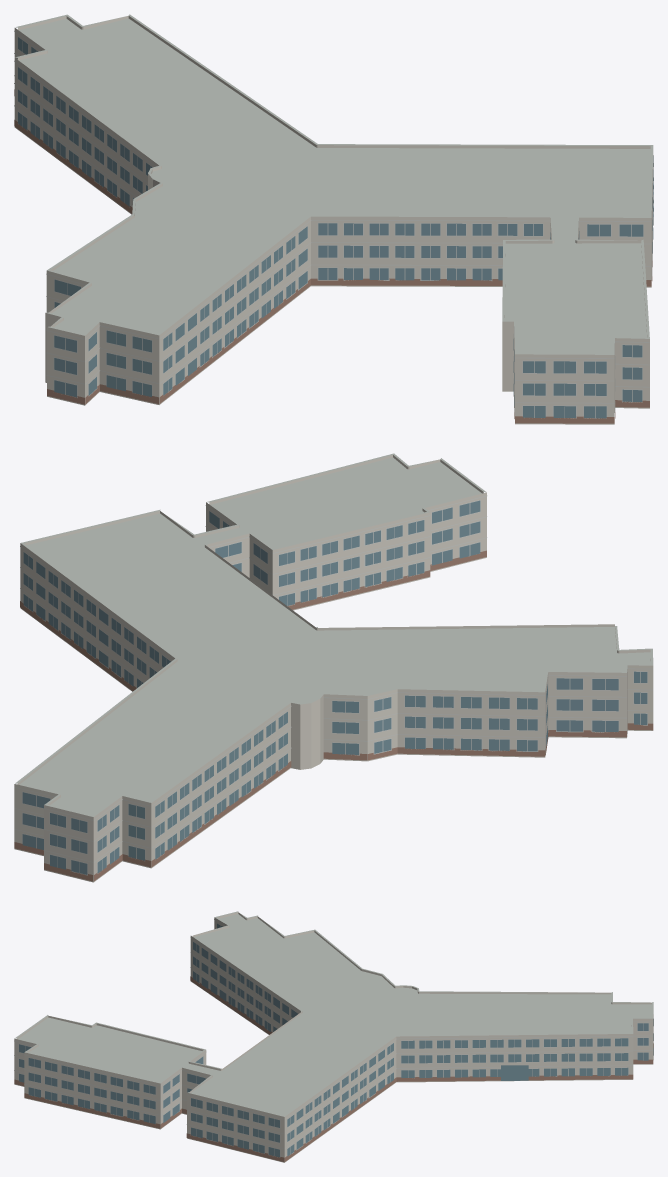
The model's file is public-a3f9491b-0654-4474-af80-3bf5fd432a91.glb.
3 renders of one model, top to bottom at view 1: azimuth 30°, elevation 25°; view 2: azimuth 150°, elevation 25°; view 3: azimuth 270°, elevation 25°, orthographic. The views are drawn at different scales.
Visible parts, largest first — view 1: public-a3f9491b-0654-4474-af80-3bf5fd432a91; view 2: public-a3f9491b-0654-4474-af80-3bf5fd432a91; view 3: public-a3f9491b-0654-4474-af80-3bf5fd432a91.
Boxes of the visible parts, x1,y1,x2,y2 form: public-a3f9491b-0654-4474-af80-3bf5fd432a91: (14, 14, 653, 424); public-a3f9491b-0654-4474-af80-3bf5fd432a91: (14, 453, 653, 882); public-a3f9491b-0654-4474-af80-3bf5fd432a91: (14, 911, 653, 1162).
Size of the model in its own units: 88.03 by 9.15 by 115.
